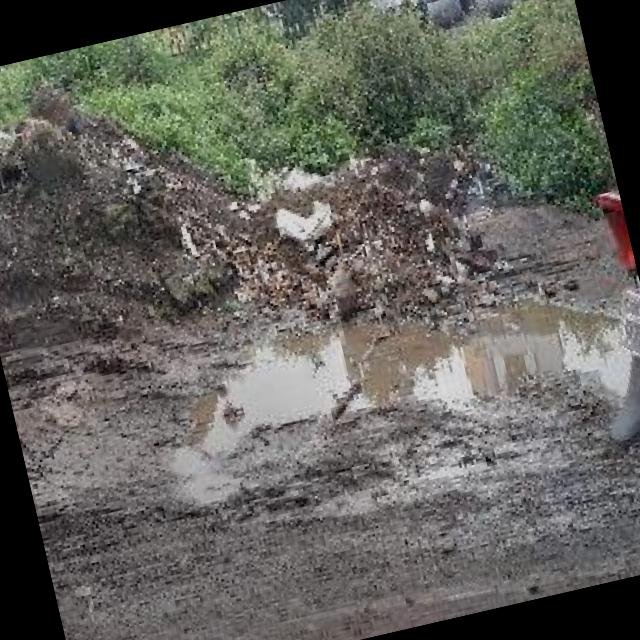stagnation: (165, 282, 620, 461)
